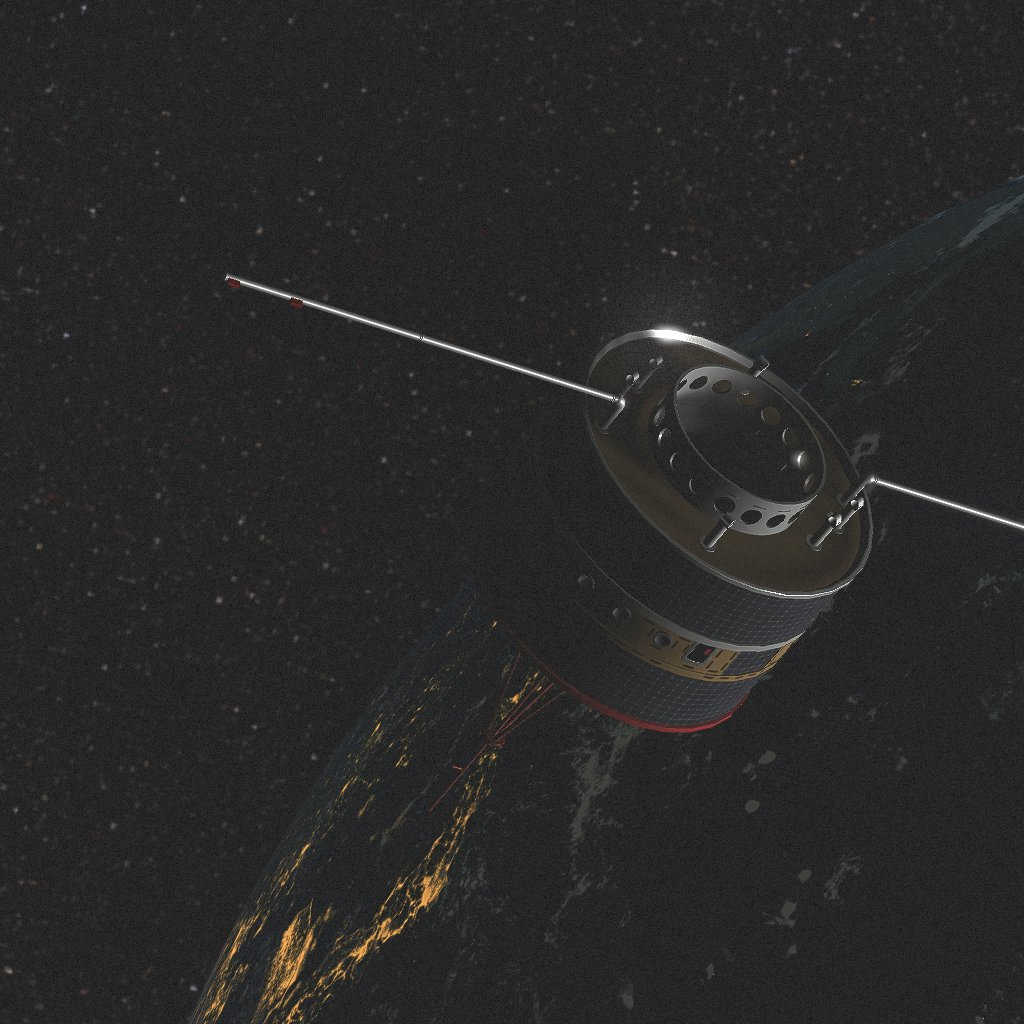double_star: (222, 272, 1024, 812)
